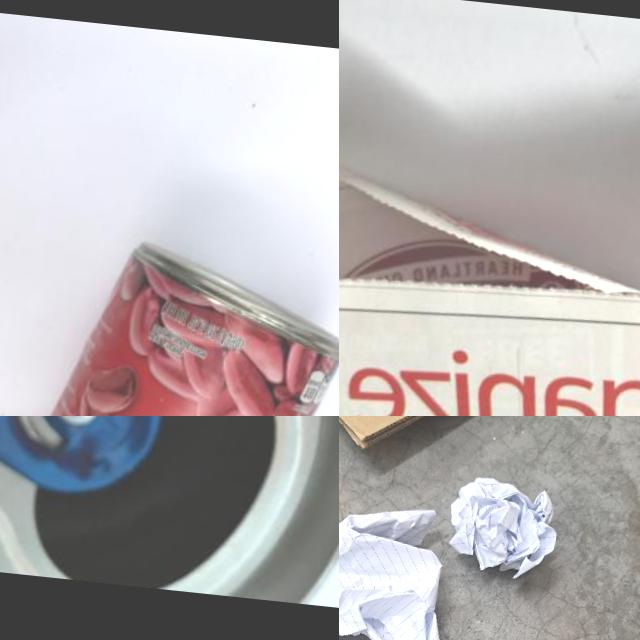aba de lata: (0, 416, 183, 500)
lata: (0, 416, 339, 610), (3, 229, 339, 416)
papel: (339, 140, 640, 416), (339, 492, 458, 640), (444, 474, 561, 582)
papelão: (339, 416, 520, 466)
